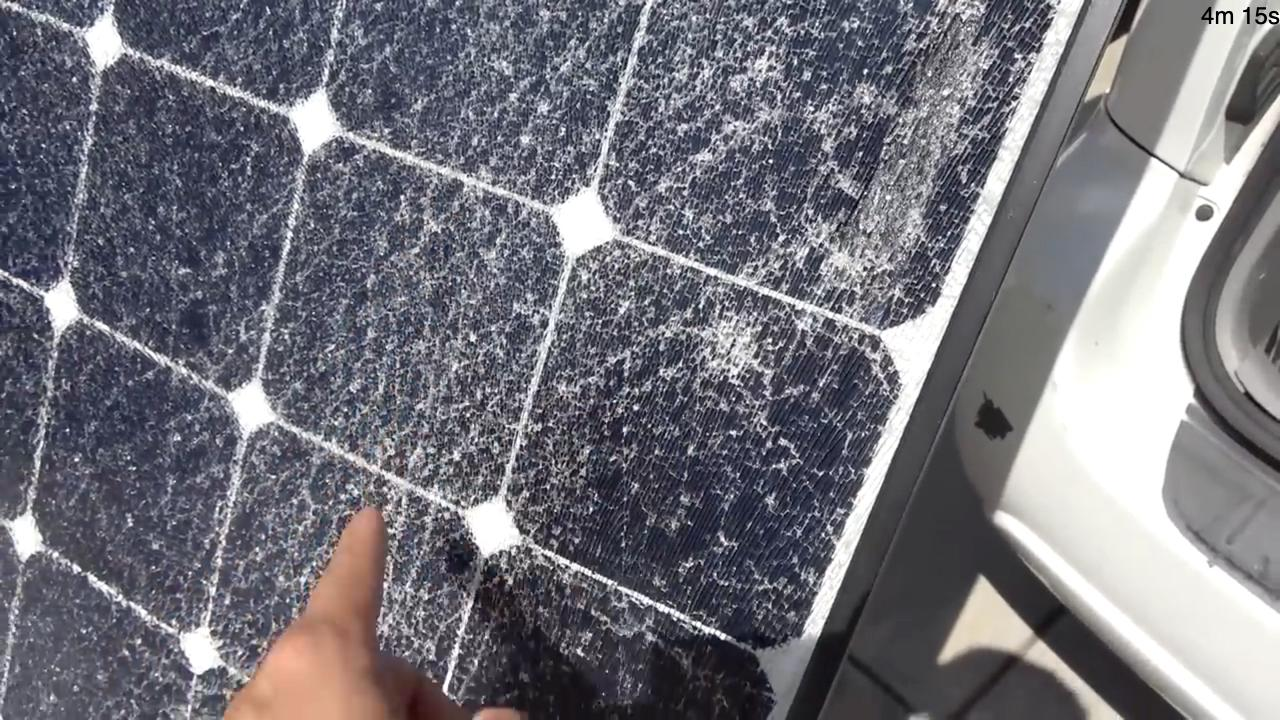Crack: (375, 0, 937, 317), (289, 341, 501, 491)
